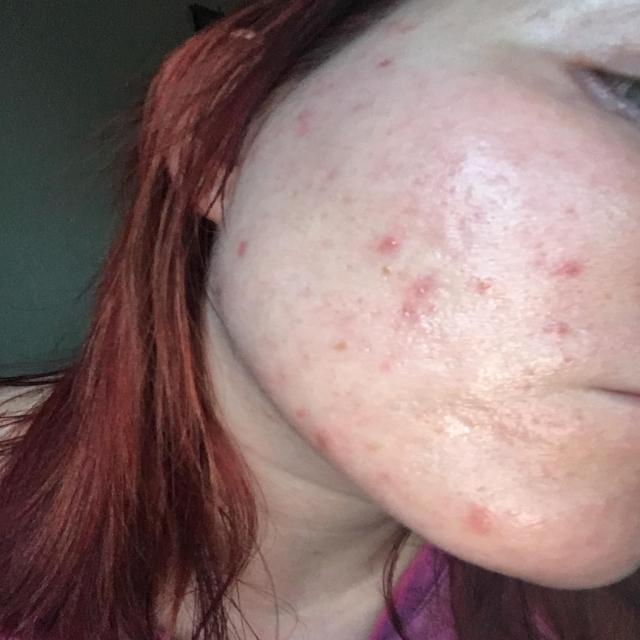Acne: (256, 83, 620, 544)
